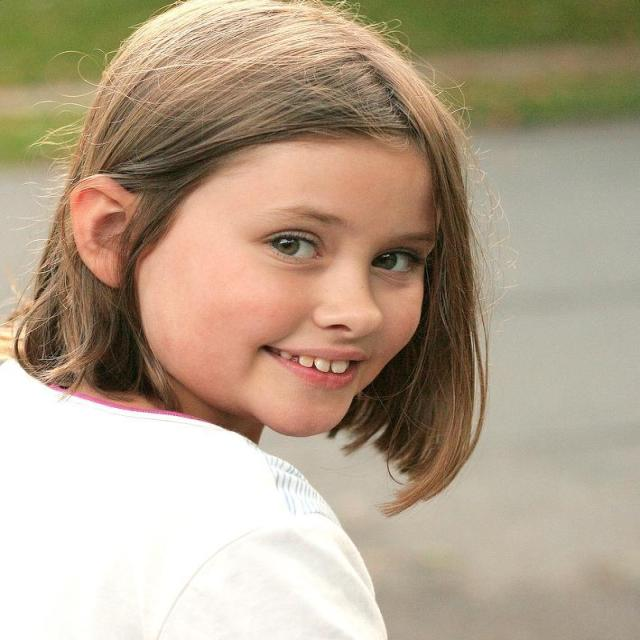no-glass: (264, 225, 430, 282)
